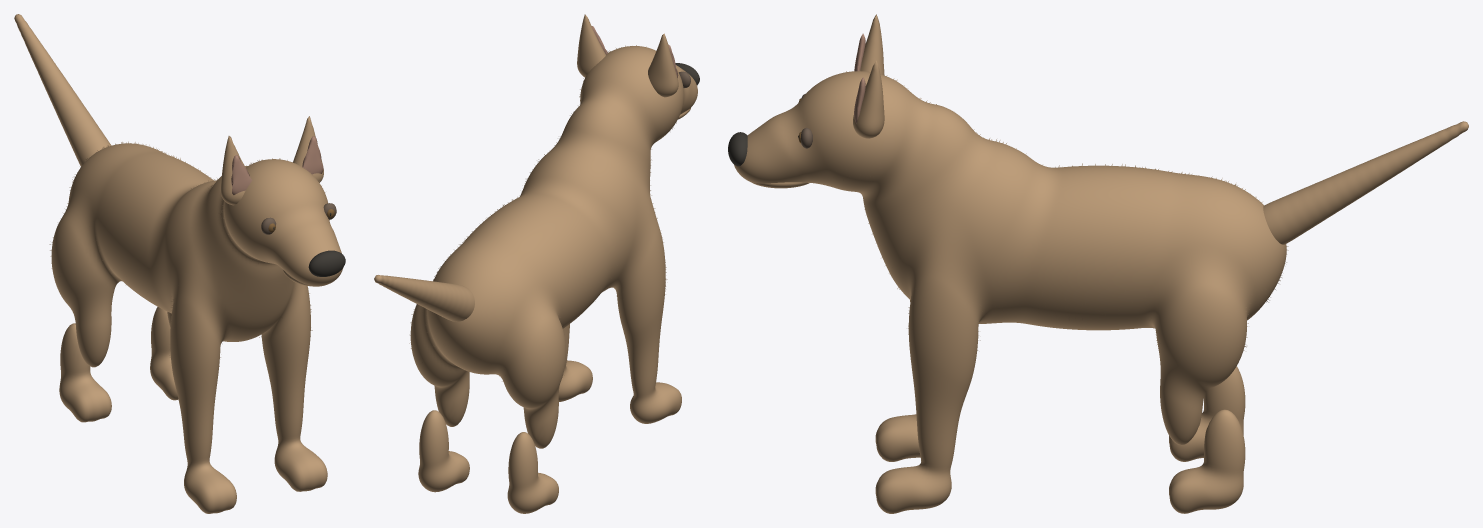
File: Artorias_Anatomical.glb
The picture shows the model from 3 angles, left to right: view 1: azimuth 30°, elevation 25°; view 2: azimuth 150°, elevation 25°; view 3: azimuth 270°, elevation 25°; orthographic projection. The views are drawn at different scales.
Parts seen in each view (by area): view 1: Continuous anatomical skin, Tail, Short coat, ear0, Nose, ear1, ear lining 0, ear lining 1; view 2: Continuous anatomical skin, Tail, ear0, ear1, Short coat; view 3: Continuous anatomical skin, Tail, ear1, Short coat, ear0.
Part boxes in pixels (x1,y1,x2,y2): Continuous anatomical skin: [51, 143, 342, 513]; Tail: [14, 14, 111, 166]; Short coat: [49, 141, 325, 367]; ear0: [220, 136, 250, 205]; Nose: [308, 250, 345, 276]; ear1: [293, 116, 323, 182]; ear lining 0: [231, 155, 252, 195]; ear lining 1: [302, 136, 323, 174]; Continuous anatomical skin: [410, 46, 697, 513]; Tail: [374, 275, 474, 321]; ear0: [648, 33, 678, 97]; ear1: [577, 14, 605, 77]; Short coat: [409, 45, 681, 387]; Continuous anatomical skin: [734, 71, 1286, 513]; Tail: [1263, 121, 1468, 244]; ear1: [853, 60, 884, 138]; Short coat: [833, 70, 1288, 366]; ear0: [860, 14, 884, 75].
Size of the model in its own units: 0.2447 by 0.593 by 0.8935.
